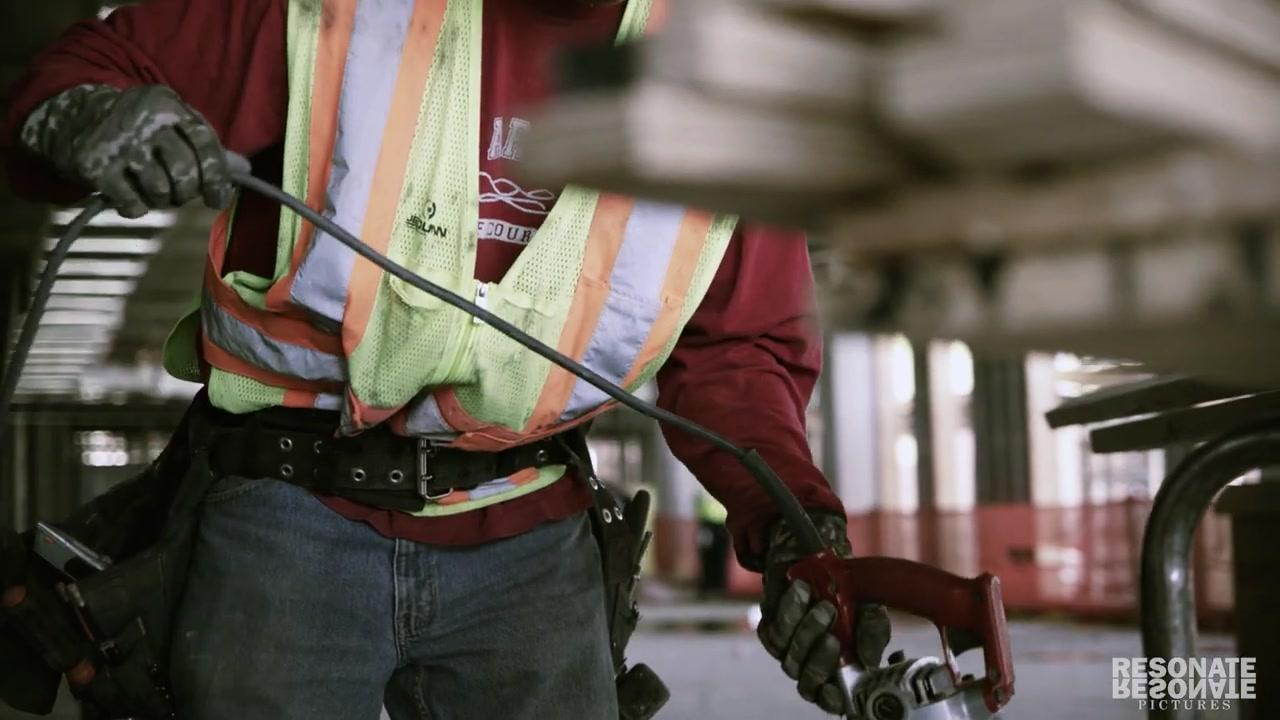vest: (199, 0, 747, 514)
